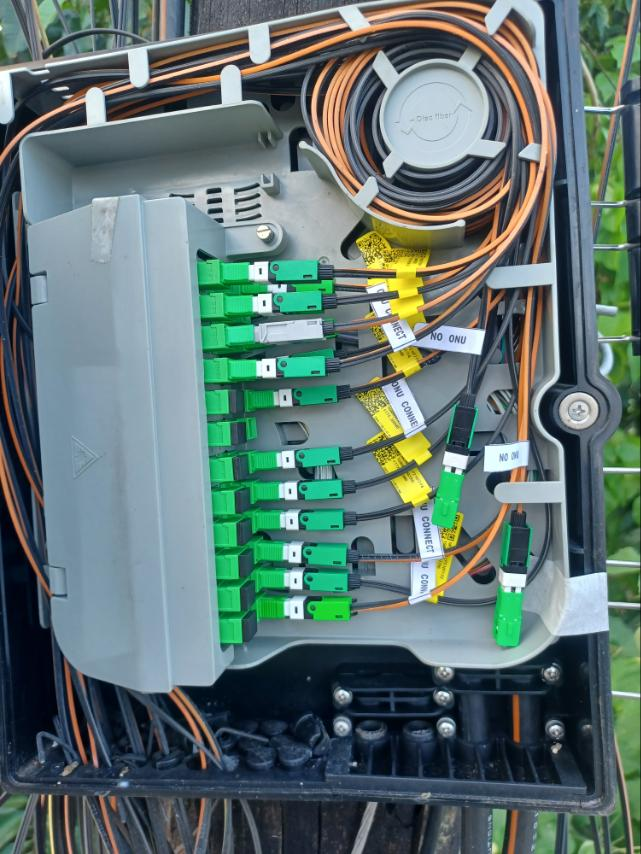no dust cap: (248, 419, 259, 438)
occupied: (226, 316, 335, 352), (224, 288, 339, 320), (228, 352, 336, 385), (220, 258, 336, 287), (246, 348, 347, 380), (249, 382, 353, 411), (253, 475, 353, 504), (252, 444, 353, 472), (245, 319, 336, 350), (261, 594, 359, 620), (260, 542, 358, 568), (247, 292, 334, 321), (238, 273, 337, 298), (262, 567, 360, 592), (258, 508, 357, 531)
vacant: (242, 581, 256, 611), (244, 612, 257, 643), (242, 550, 255, 580), (235, 456, 249, 480), (233, 421, 247, 445), (240, 518, 252, 545), (231, 390, 244, 414), (239, 488, 250, 511)
